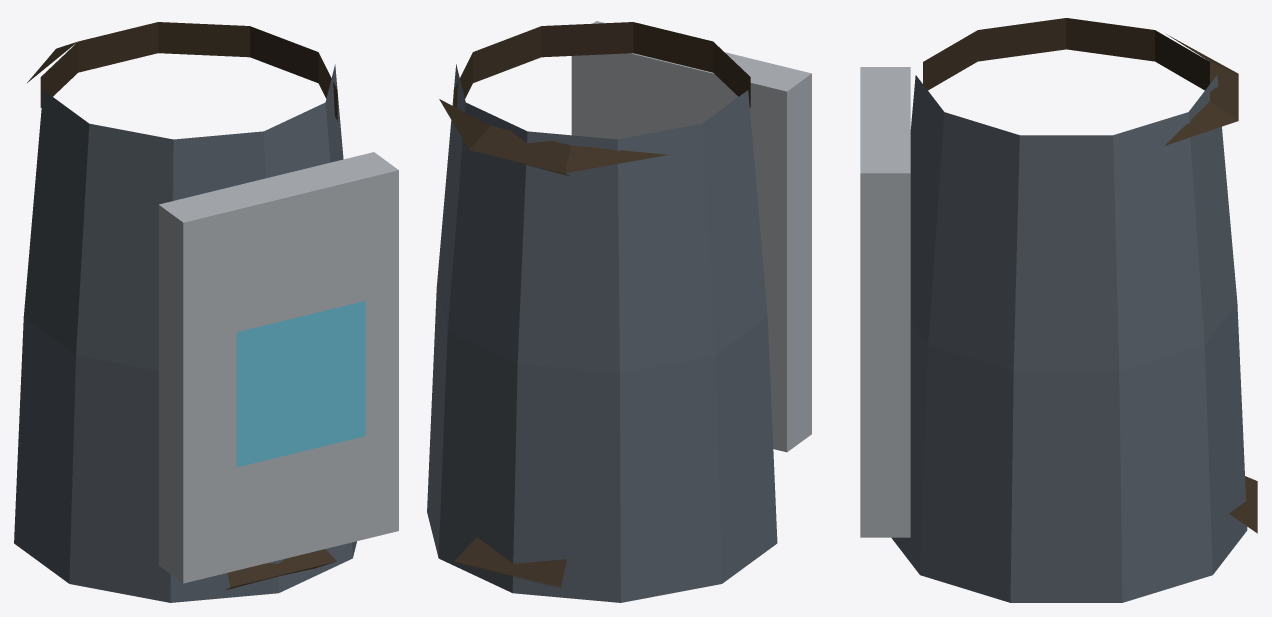
File: bracer.lod.glb
3 views of the same model, side by side, from view 1: azimuth 30°, elevation 25°; view 2: azimuth 150°, elevation 25°; view 3: azimuth 270°, elevation 25° (orthographic).
Parts seen in each view (by area): view 1: m; view 2: m; view 3: m.
Boxes of the visible parts, x1,y1,x2,y2 form: m: (14,22,398,602); m: (427,21,811,602); m: (860,18,1257,602).
Size of the model in its own units: 0.0685 by 0.1 by 0.083.
